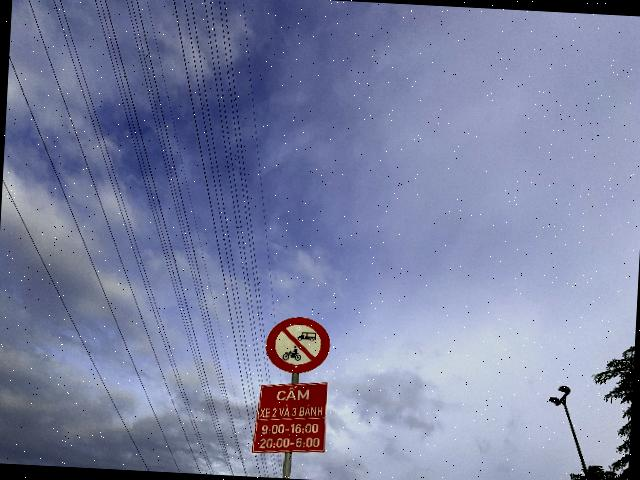cam-xe-2-banh-3-banh: (265, 315, 332, 375)
